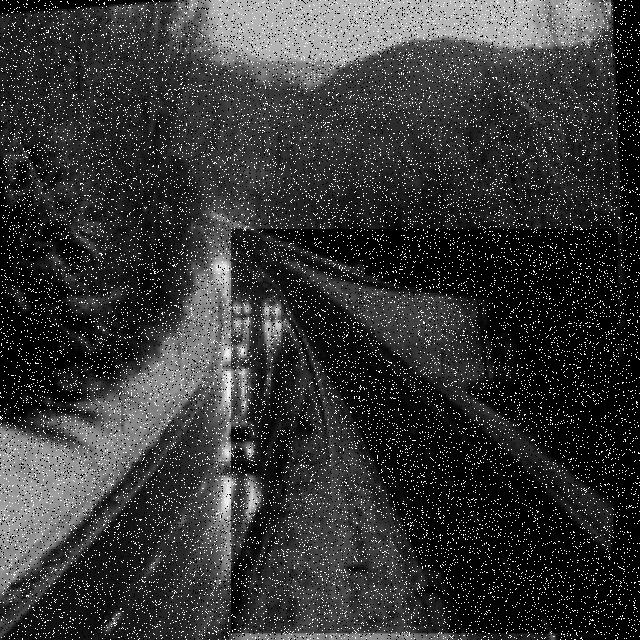ice-road: (232, 231, 618, 633)
